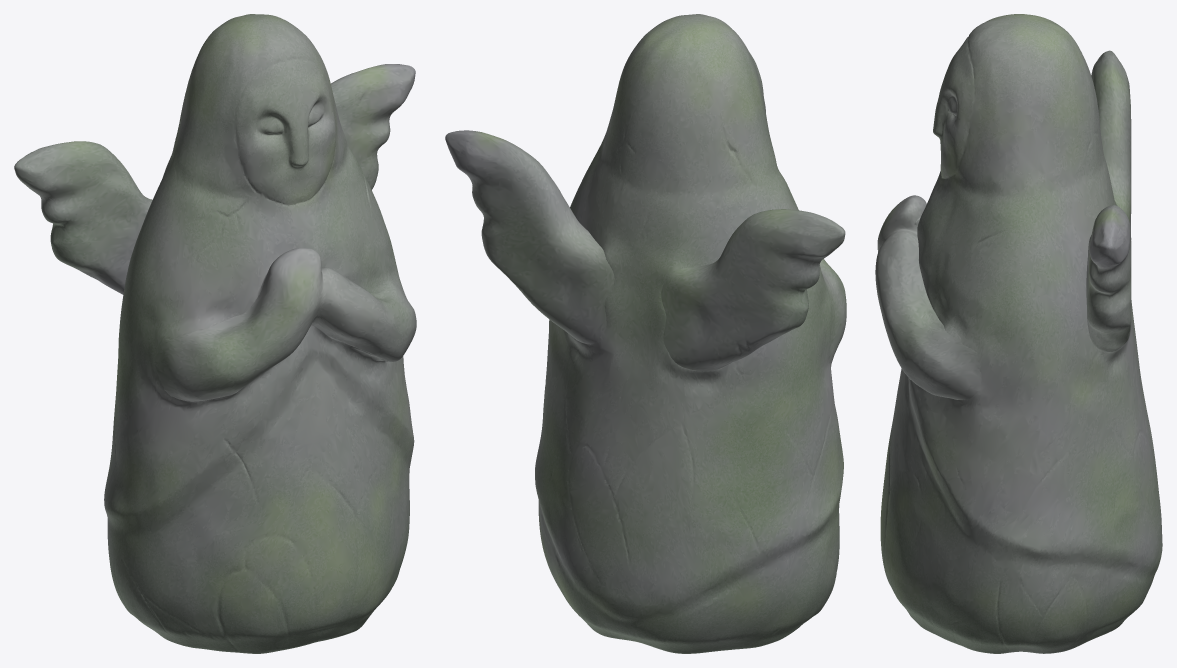
File: GoddessFigure.glb
3 renders of one model, left to right at view 1: azimuth 30°, elevation 25°; view 2: azimuth 150°, elevation 25°; view 3: azimuth 270°, elevation 25°, orthographic.
Parts seen in each view (by area): view 1: Statue_Statue_0; view 2: Statue_Statue_0; view 3: Statue_Statue_0.
Part boxes in pixels (box(x1,y1,x2,y2)): Statue_Statue_0: box(14, 14, 416, 653); Statue_Statue_0: box(445, 14, 846, 653); Statue_Statue_0: box(875, 14, 1162, 653).
Size of the model in its own units: 1.07 by 1.5 by 0.6647.
